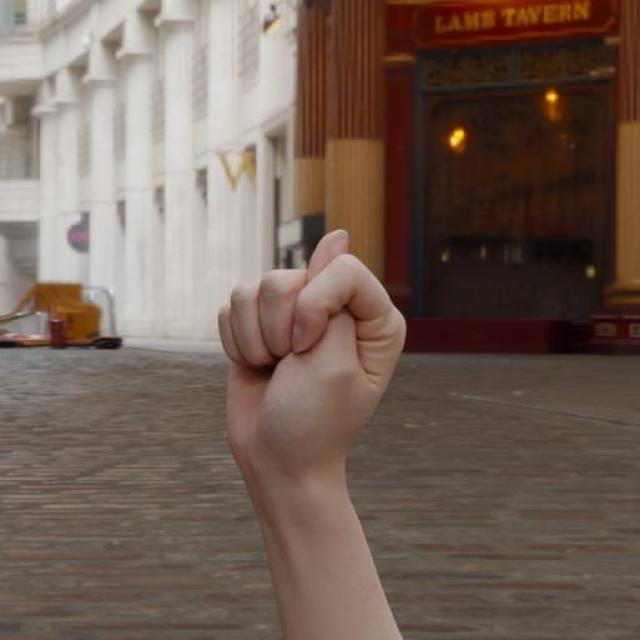T: (211, 224, 410, 506)
